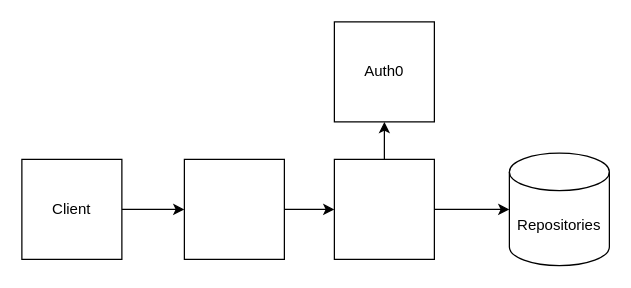
Image size: 631x288. Some labels were removed from this diagram. Each missing label, with the box of its shape:
API: (333, 158, 434, 259)
WebServer: (183, 158, 284, 259)
